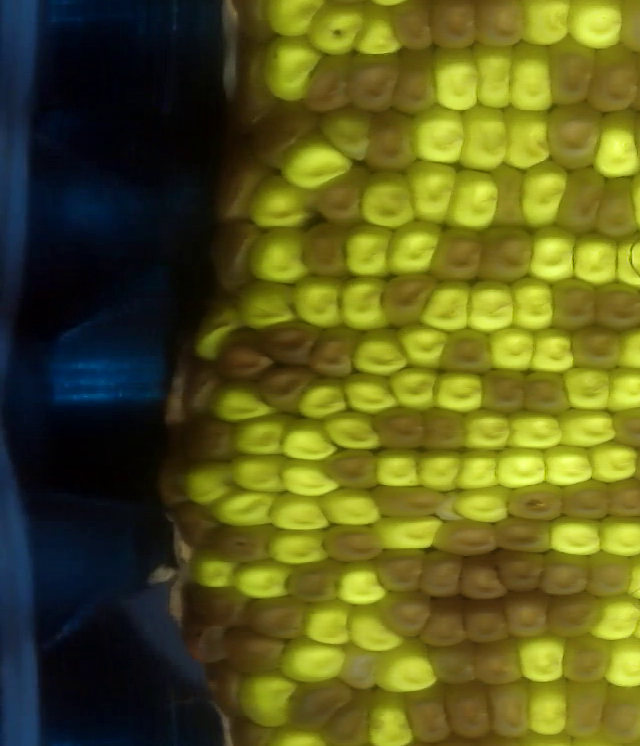fluorescent: (281, 134, 355, 188), (265, 37, 323, 101), (250, 177, 318, 230), (251, 230, 312, 286), (412, 107, 470, 165), (461, 104, 509, 172), (408, 160, 458, 225), (376, 638, 438, 690), (431, 44, 479, 111), (358, 172, 415, 228), (240, 675, 300, 728), (508, 44, 554, 113), (593, 111, 640, 178), (278, 637, 346, 683), (292, 272, 346, 329), (309, 3, 365, 57), (446, 170, 496, 230), (499, 409, 567, 453), (386, 222, 440, 277), (507, 108, 556, 167), (529, 227, 578, 286), (339, 277, 389, 334), (520, 162, 563, 228), (560, 369, 620, 416), (240, 281, 299, 328), (351, 330, 410, 377), (226, 560, 292, 602), (324, 406, 386, 450), (572, 228, 618, 287), (230, 450, 288, 496), (421, 280, 473, 330), (212, 387, 282, 424), (386, 365, 441, 412), (345, 224, 391, 280), (344, 371, 400, 417), (517, 634, 567, 685), (349, 607, 402, 655), (494, 444, 551, 488), (466, 282, 514, 334), (236, 416, 298, 456), (299, 602, 352, 648), (512, 275, 554, 333), (540, 445, 598, 487), (529, 324, 577, 374), (478, 46, 514, 112), (462, 409, 518, 451), (557, 409, 617, 448), (215, 492, 279, 528), (575, 1, 621, 51), (489, 324, 535, 374), (336, 564, 393, 604), (520, 3, 573, 46), (367, 699, 415, 746), (324, 487, 379, 528), (400, 323, 446, 372), (184, 460, 233, 506), (549, 517, 605, 557), (379, 517, 444, 551), (434, 370, 486, 412), (373, 446, 425, 488), (271, 529, 329, 566), (296, 380, 352, 418), (358, 8, 403, 55), (593, 596, 640, 641), (268, 498, 329, 532), (281, 461, 340, 496), (284, 423, 338, 461), (526, 691, 570, 737), (267, 2, 324, 37), (414, 453, 463, 493), (591, 441, 639, 481), (193, 551, 242, 590), (455, 492, 512, 524), (457, 450, 502, 490), (596, 518, 640, 557), (603, 367, 640, 411), (608, 640, 640, 687)
nonfluorescent: (588, 43, 640, 116), (544, 107, 600, 171), (284, 676, 357, 725), (476, 225, 534, 285), (205, 223, 257, 288), (217, 155, 263, 228), (556, 167, 605, 235), (250, 108, 307, 166), (549, 37, 596, 107), (554, 676, 607, 738), (363, 113, 417, 172), (378, 271, 434, 327), (203, 523, 279, 564), (392, 53, 441, 116), (447, 676, 491, 745), (349, 53, 398, 113), (242, 595, 307, 639), (172, 420, 236, 464), (309, 325, 363, 377), (405, 683, 451, 744), (489, 164, 530, 232), (370, 406, 428, 454), (587, 280, 640, 332), (433, 228, 484, 282), (373, 592, 434, 637), (257, 319, 315, 366), (435, 328, 494, 374), (182, 580, 242, 625), (545, 592, 600, 641), (549, 276, 596, 333), (488, 681, 531, 743), (371, 486, 445, 522), (300, 227, 350, 280), (307, 51, 347, 117), (599, 174, 639, 240), (430, 1, 481, 51), (231, 629, 286, 675), (318, 451, 378, 493), (217, 332, 273, 377), (375, 546, 425, 596), (315, 172, 363, 224), (520, 370, 572, 417), (544, 545, 587, 601), (183, 620, 236, 665), (477, 367, 525, 416), (561, 632, 610, 680), (472, 641, 524, 686), (423, 643, 477, 686), (602, 685, 640, 746), (319, 525, 383, 561), (502, 593, 550, 641), (256, 369, 307, 414), (418, 548, 463, 599), (572, 329, 625, 372), (461, 603, 515, 645), (496, 516, 554, 555), (423, 406, 470, 454), (557, 483, 613, 522), (379, 487, 444, 520), (589, 546, 630, 598), (458, 556, 504, 602), (479, 2, 524, 49), (423, 604, 470, 648), (509, 482, 563, 520), (391, 2, 433, 50), (335, 688, 371, 744), (288, 562, 341, 599), (496, 556, 545, 596), (339, 644, 381, 690), (442, 523, 499, 556), (608, 476, 640, 524)
